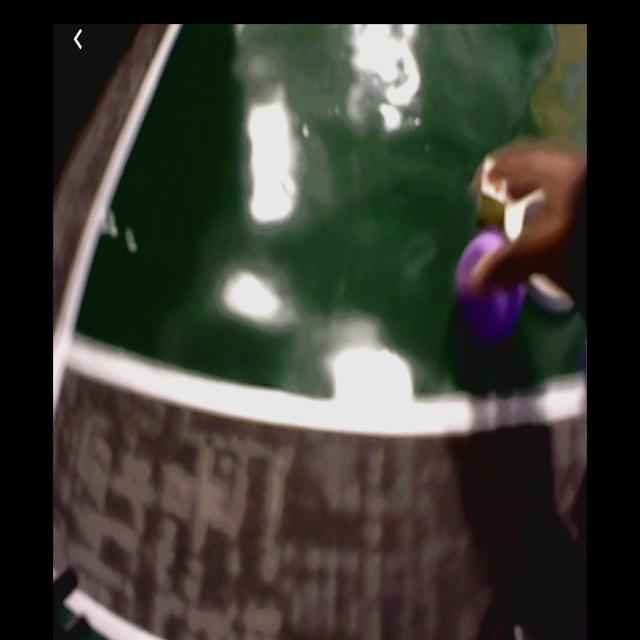ball: (461, 228, 523, 336)
